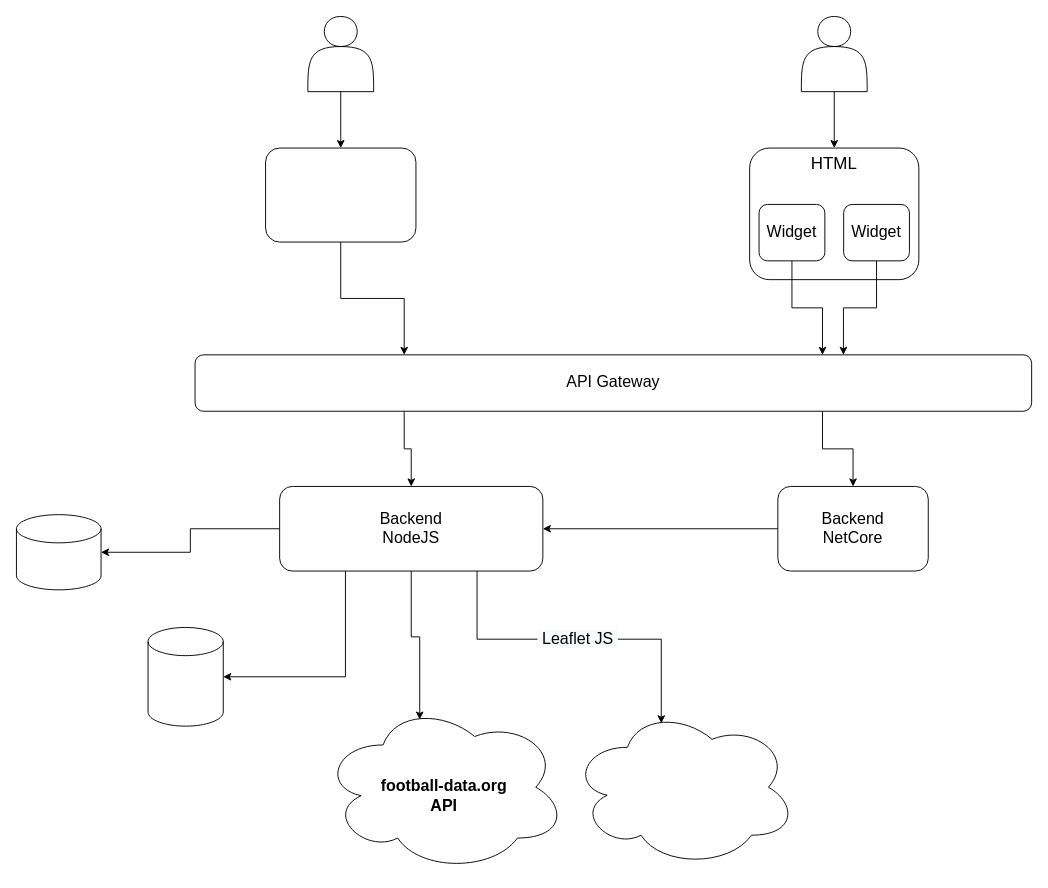
Some shapes in this 1048 by 888 pixel diagram are drawn without their labels. Each missing label, with the box of its shape:
Cache: (16, 514, 101, 590)
DB: (147, 627, 223, 726)
Frontend ReactJS: (265, 147, 416, 242)
OpenStreetMap API: (570, 706, 797, 867)
